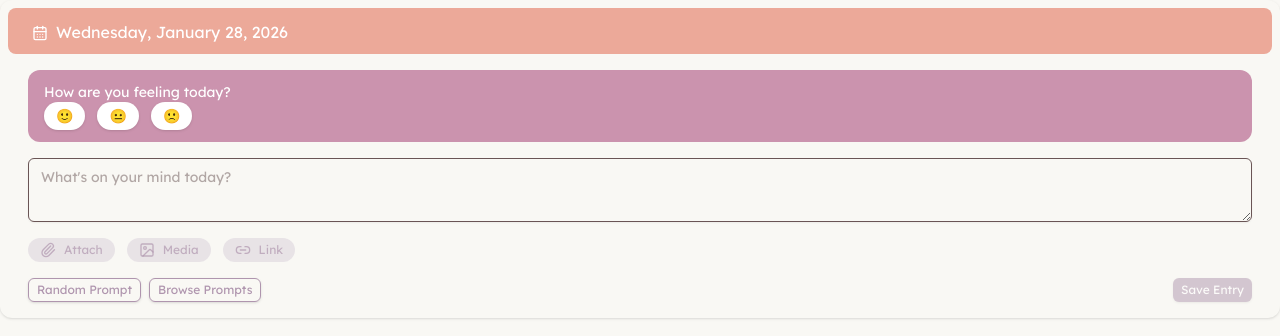
JournalEntryComposer › disables save until content is entered
Expected: the button "Save Entry" is disabled, [1173,278,1252,302]
Type "Hello journal" into the text box with placeholder "What's on your mind today?" at [640, 190], box [28,158,1252,222]
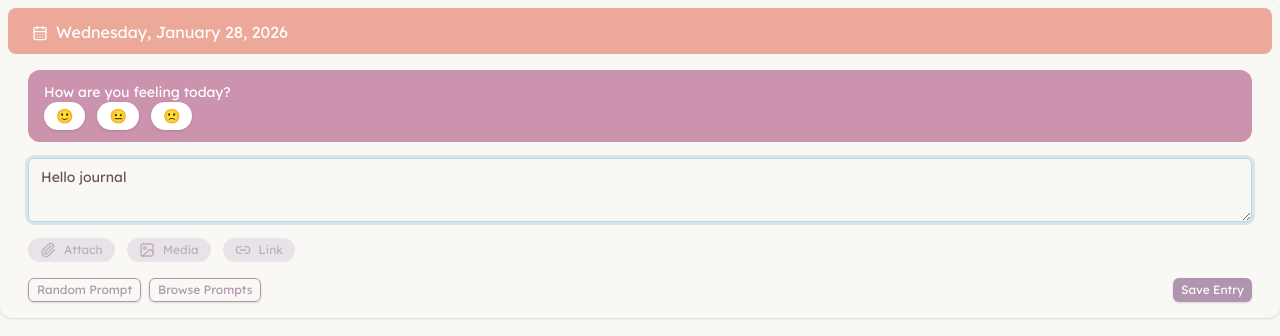
Expected: the button "Save Entry" is enabled, [1173,278,1252,302]
